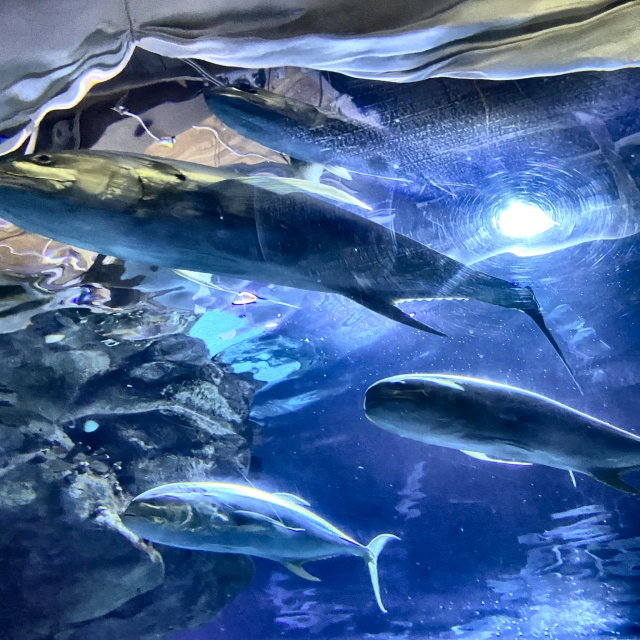fish: (0, 149, 583, 337), (123, 482, 399, 612), (365, 374, 639, 495)
